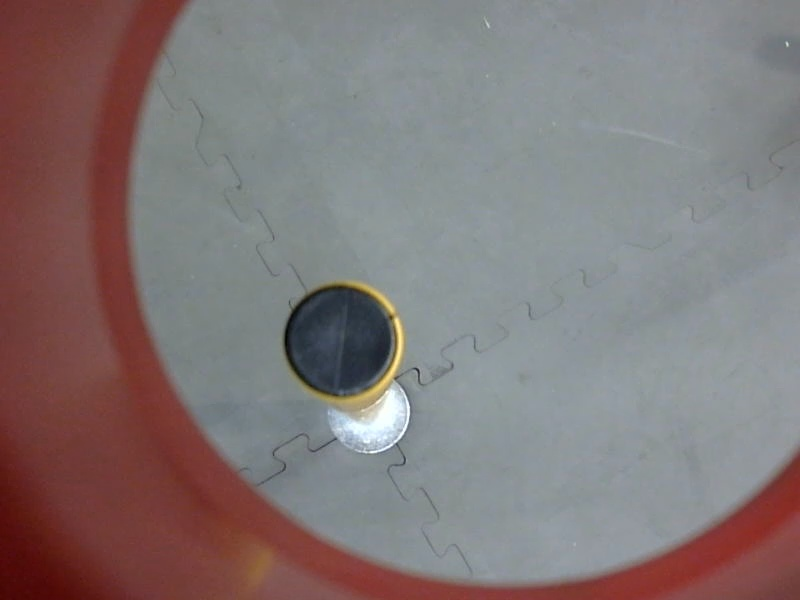tip: (278, 272, 406, 409)
